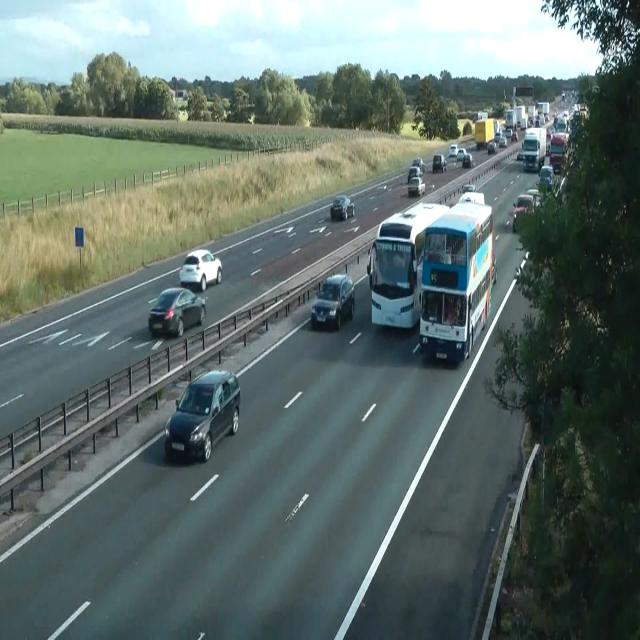bus: (148, 286, 206, 338), (311, 273, 355, 330), (178, 248, 222, 292), (330, 194, 354, 220), (514, 250, 532, 282), (526, 188, 544, 209), (459, 191, 485, 205), (407, 165, 423, 184), (491, 253, 497, 284), (412, 158, 425, 172), (462, 153, 474, 168), (487, 140, 497, 154), (448, 143, 458, 157), (461, 183, 475, 193), (456, 148, 466, 160), (498, 135, 507, 147), (517, 148, 523, 160), (511, 132, 518, 142)
car: (418, 194, 496, 363), (366, 200, 450, 330)
jeep: (164, 368, 240, 462), (512, 193, 536, 232), (537, 165, 555, 191), (407, 175, 425, 197), (432, 153, 446, 172)
minibus: (521, 126, 547, 172), (549, 132, 568, 174), (475, 117, 497, 151), (504, 105, 526, 131), (534, 100, 550, 122)
